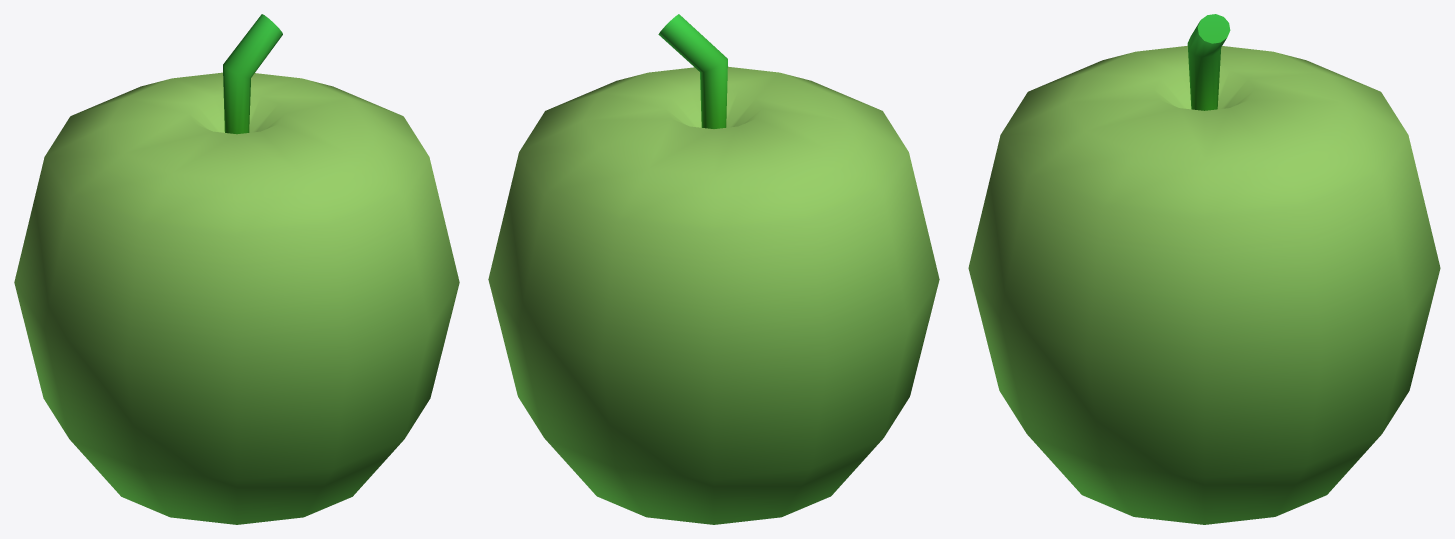
Rendered from apple_green.fbx.
3 views of the same model, side by side, from view 1: azimuth 30°, elevation 25°; view 2: azimuth 150°, elevation 25°; view 3: azimuth 270°, elevation 25° (orthographic). The views are drawn at different scales.
Parts seen in each view (by area): view 1: apple_green; view 2: apple_green; view 3: apple_green.
Boxes of the visible parts, x1=… form: apple_green: x1=14, y1=14, x2=459, y2=524; apple_green: x1=488, y1=14, x2=939, y2=524; apple_green: x1=968, y1=14, x2=1440, y2=524.
Size of the model in its own units: 70.87 by 82.73 by 70.87.
